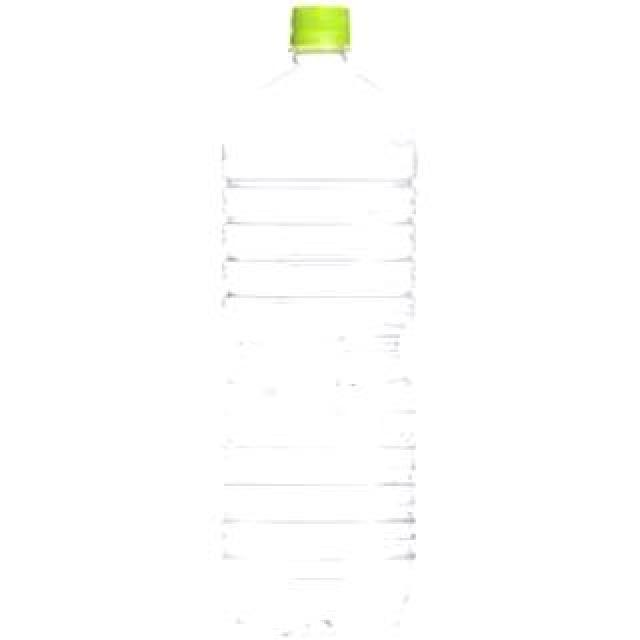Pet_Bottle: (198, 4, 444, 640)
